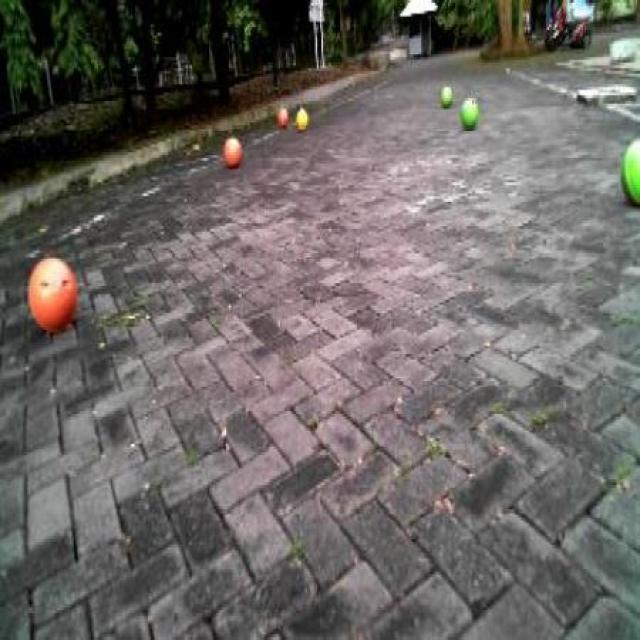buoy: (18, 242, 82, 344), (614, 120, 639, 216), (454, 89, 484, 134), (219, 127, 246, 173), (431, 72, 458, 113), (290, 94, 314, 135), (271, 95, 292, 134)
